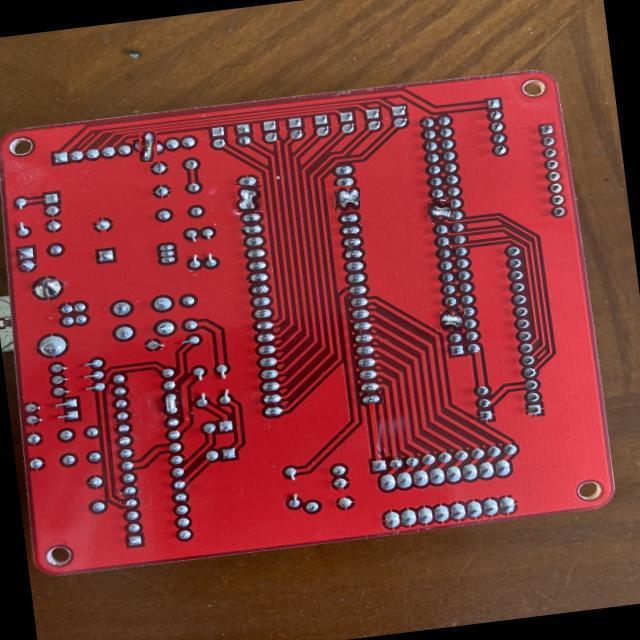damged: (236, 185, 262, 212), (334, 186, 360, 212), (136, 135, 161, 159), (160, 390, 182, 416), (441, 308, 464, 332), (428, 200, 449, 221)
